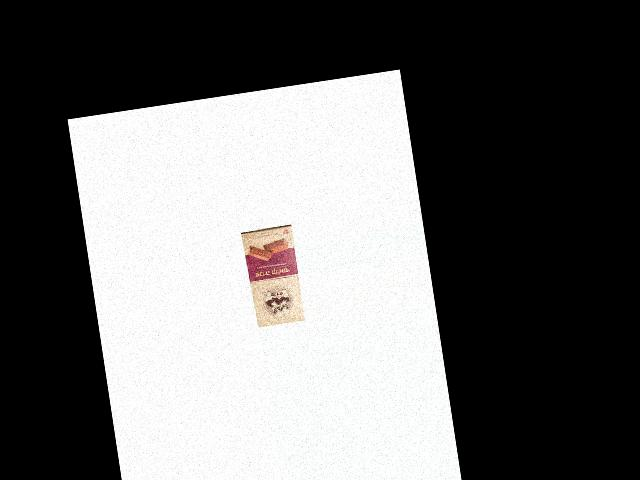chocolate: (239, 224, 304, 328)
